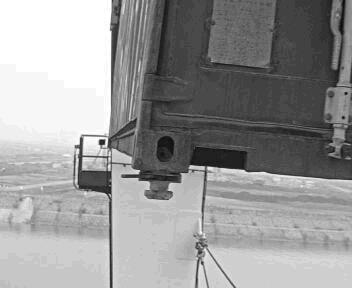twist_lock_1: (130, 163, 191, 205)
